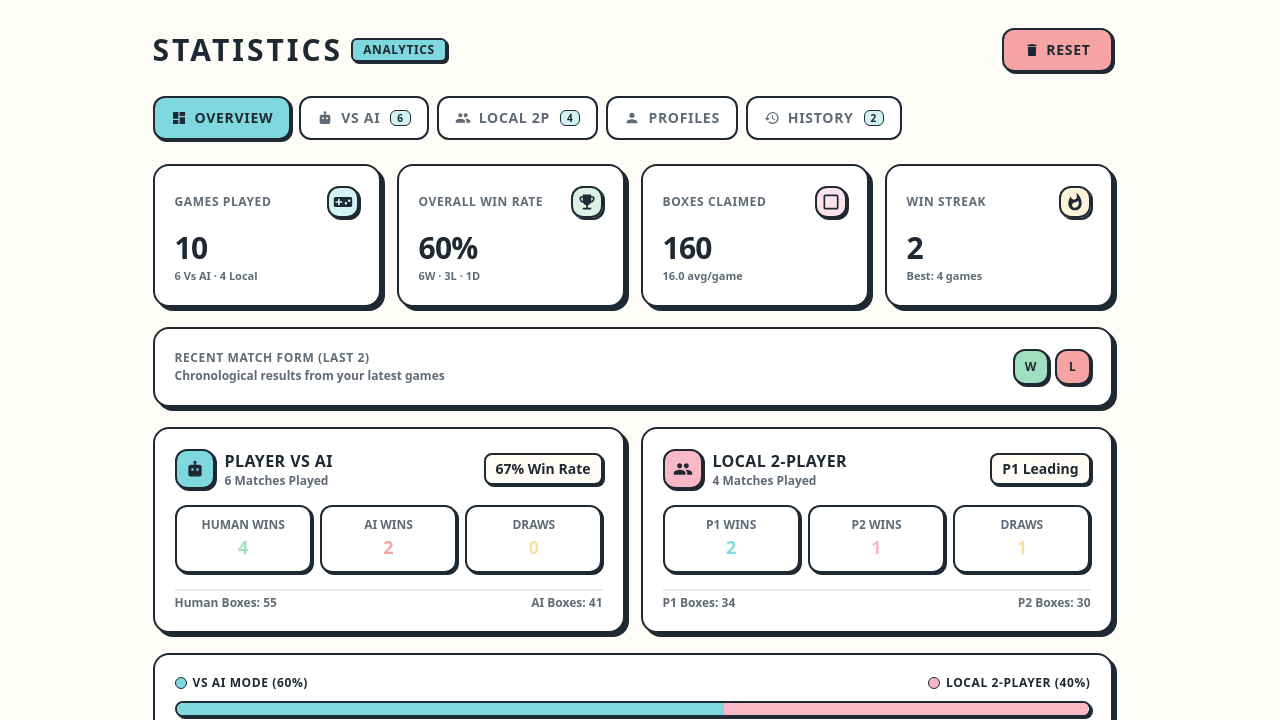
StatisticsScreen Component › switches to Local 2-Player tab and shows rivalry data
Click the tab "Local 2P 4" at [518, 118], box [437, 96, 598, 140]
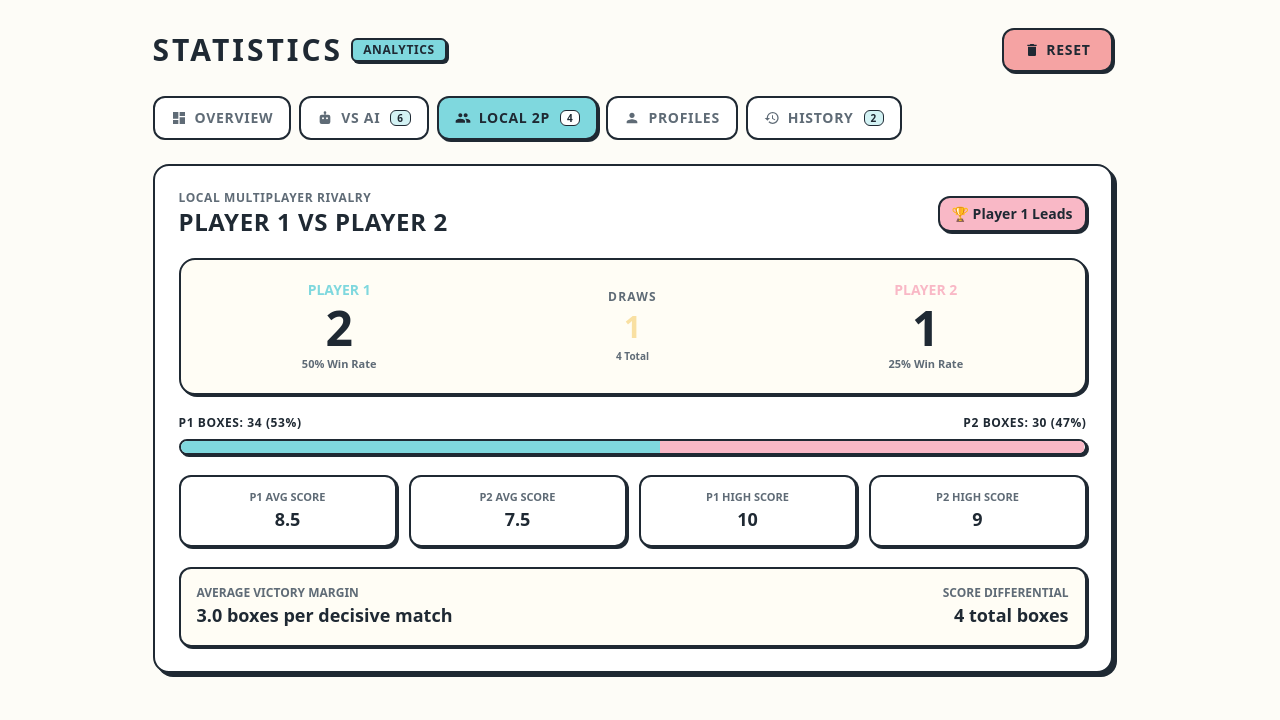
Expected: the heading "Player 1 vs Player 2" is shown, [178, 206, 448, 238]
Expected: the text "Average Victory Margin" is shown, [196, 584, 359, 601]
